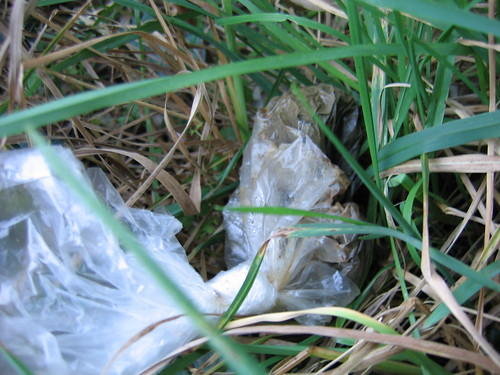plastic bag: (1, 85, 375, 375)
